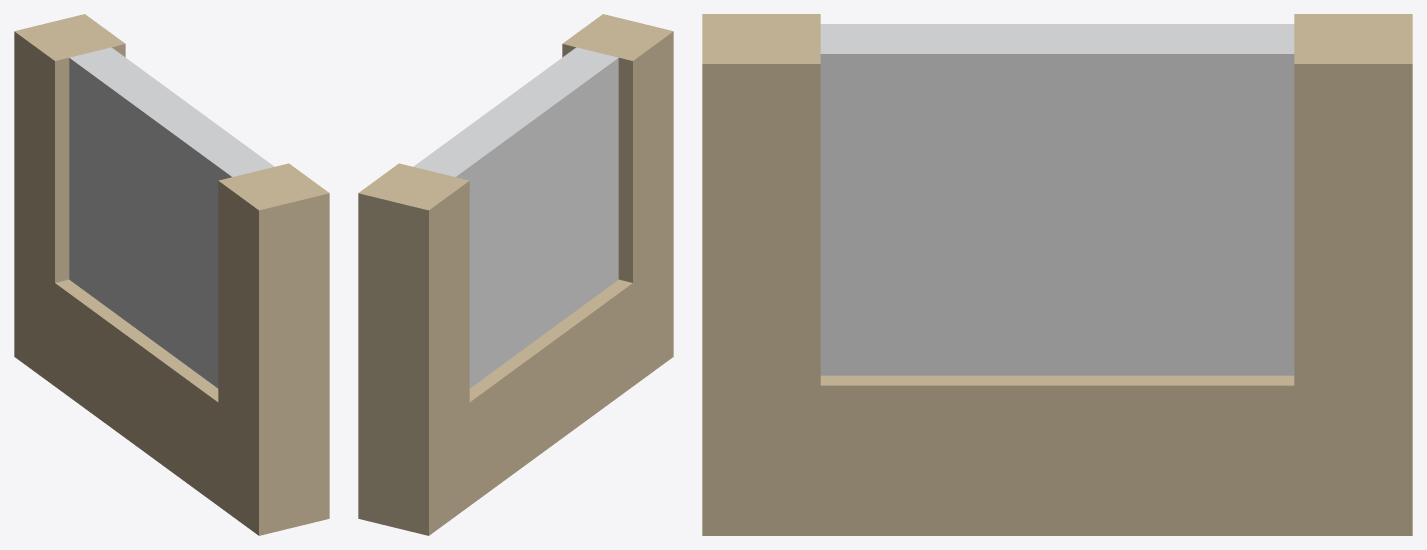
Rendered from Wood_Border_Wall_01.glb.
3 views of the same model, side by side, from view 1: azimuth 30°, elevation 25°; view 2: azimuth 150°, elevation 25°; view 3: azimuth 270°, elevation 25° (orthographic). The views are drawn at different scales.
Parts seen in each view (by area): view 1: Mesh1 Wood_Border_Wall Model; view 2: Mesh1 Wood_Border_Wall Model; view 3: Mesh1 Wood_Border_Wall Model.
Part boxes in pixels (bbox=[...]): Mesh1 Wood_Border_Wall Model: bbox=[14, 14, 329, 535]; Mesh1 Wood_Border_Wall Model: bbox=[358, 14, 673, 535]; Mesh1 Wood_Border_Wall Model: bbox=[702, 14, 1412, 535].
Size of the model in its own units: 0.5 by 2.2 by 3.
